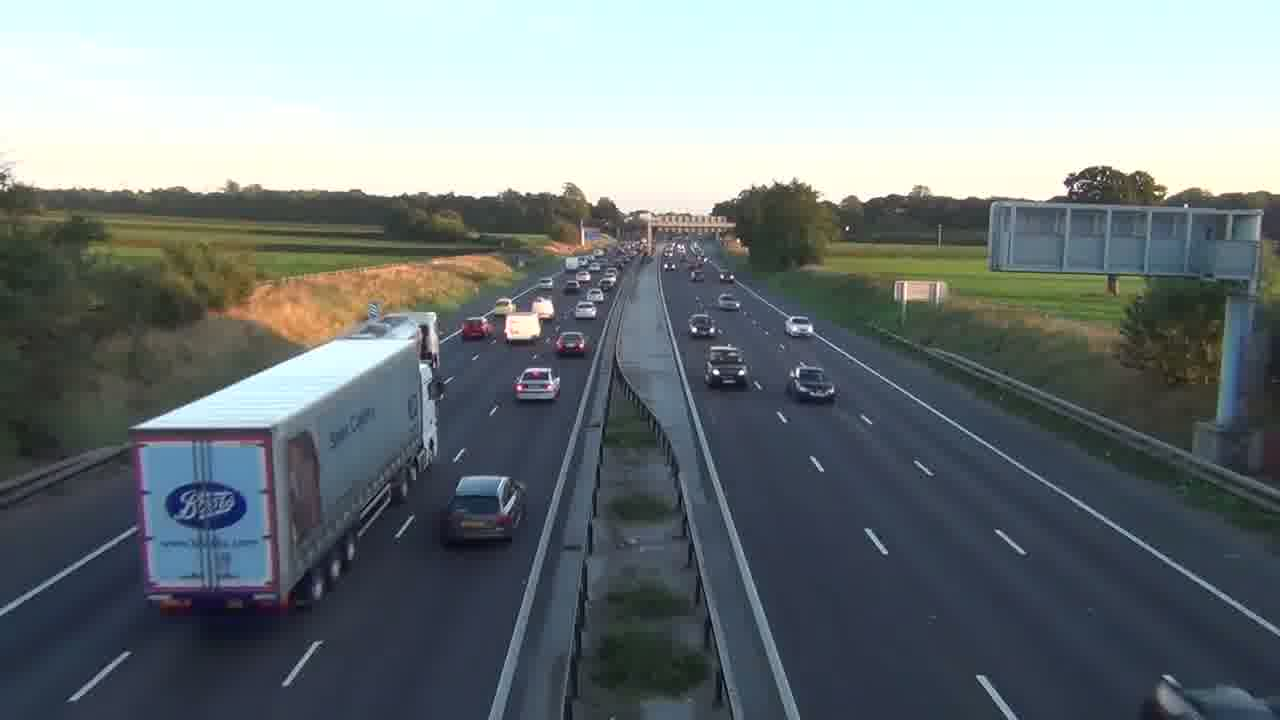car: (439, 474, 528, 546), (787, 362, 838, 403), (703, 345, 749, 389), (513, 366, 561, 403), (552, 331, 588, 356), (688, 312, 718, 336), (784, 315, 814, 338), (574, 300, 598, 319), (716, 292, 740, 310)
truck: (130, 318, 440, 616), (503, 311, 541, 343)
